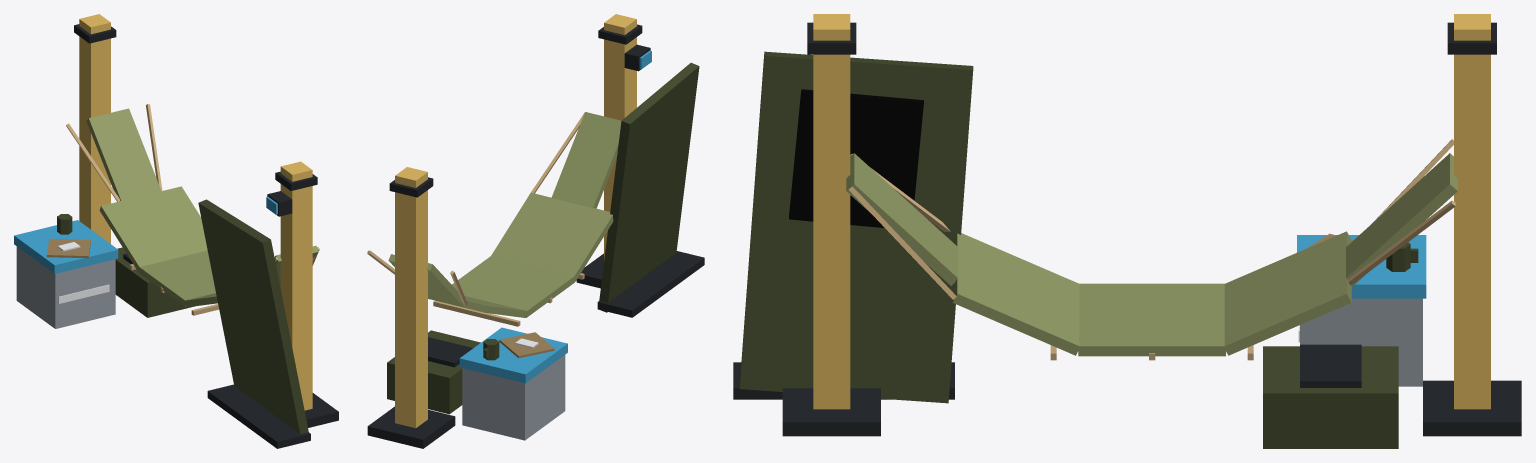
File: prop_vendor_loadmaster.fbx
3 renders of one model, left to right at view 1: azimuth 30°, elevation 25°; view 2: azimuth 150°, elevation 25°; view 3: azimuth 270°, elevation 25°, orthographic. The views are drawn at different scales.
Parts seen in each view (by area): view 1: prop_vendor_loadmaster; view 2: prop_vendor_loadmaster; view 3: prop_vendor_loadmaster.
Part boxes in pixels (left/top/right/bottom): prop_vendor_loadmaster: left=14, top=14, right=338, bottom=448; prop_vendor_loadmaster: left=367, top=14, right=704, bottom=448; prop_vendor_loadmaster: left=733, top=14, right=1521, bottom=448.
Bounding box in the file's own units: 430 × 709 × 1280.
